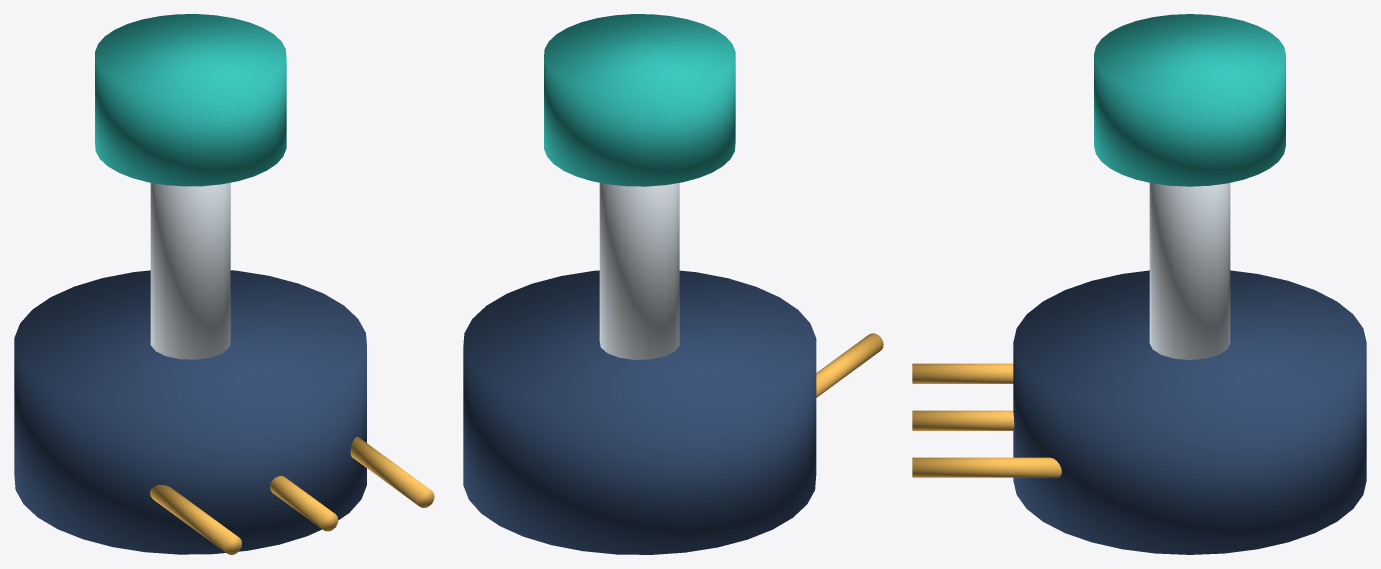
File: potentiometer-lite.glb
3 views of the same model, side by side, from view 1: azimuth 30°, elevation 25°; view 2: azimuth 150°, elevation 25°; view 3: azimuth 270°, elevation 25° (orthographic).
Visible parts, largest first — view 1: Body; view 2: Body; view 3: Body.
Part boxes in pixels (left/top/right/bottom): Body: left=14, top=14, right=434, bottom=554; Body: left=463, top=14, right=883, bottom=554; Body: left=912, top=14, right=1366, bottom=554.
Bounding box in the file's own units: 0.7 × 0.93 × 0.9.
